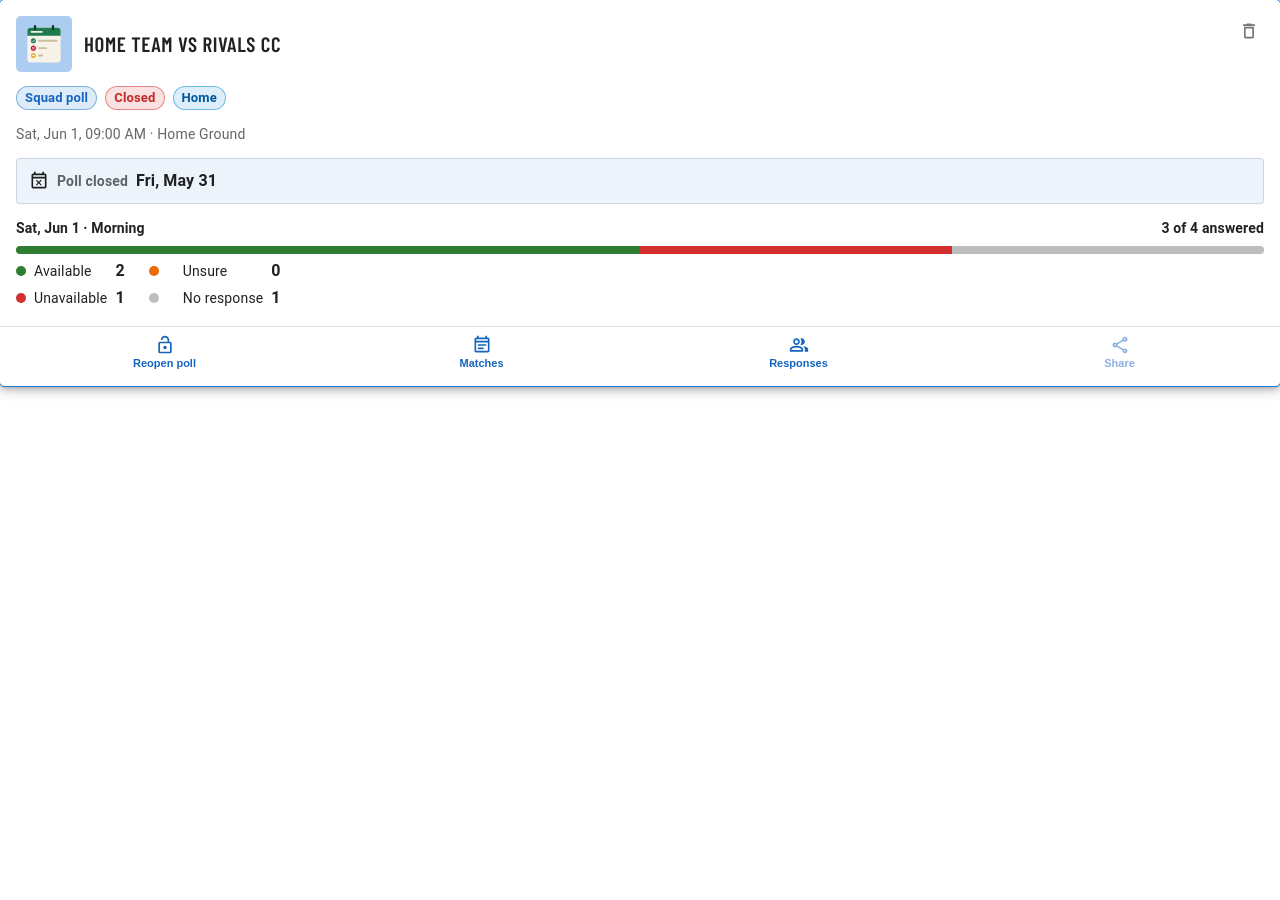
Test: PollCard - squad poll › a closed poll shows Closed, a Closed row and Reopen in the same footer slot, opening the Reopen dialog
The image size is (1280, 900).
Expected: the text "Closed" is shown, [114,90,156,105]
Expected: the text "Poll closed" is shown, [57,171,128,191]
Click the button "Reopen poll".
click(164, 352)  # box [8,327,321,378]
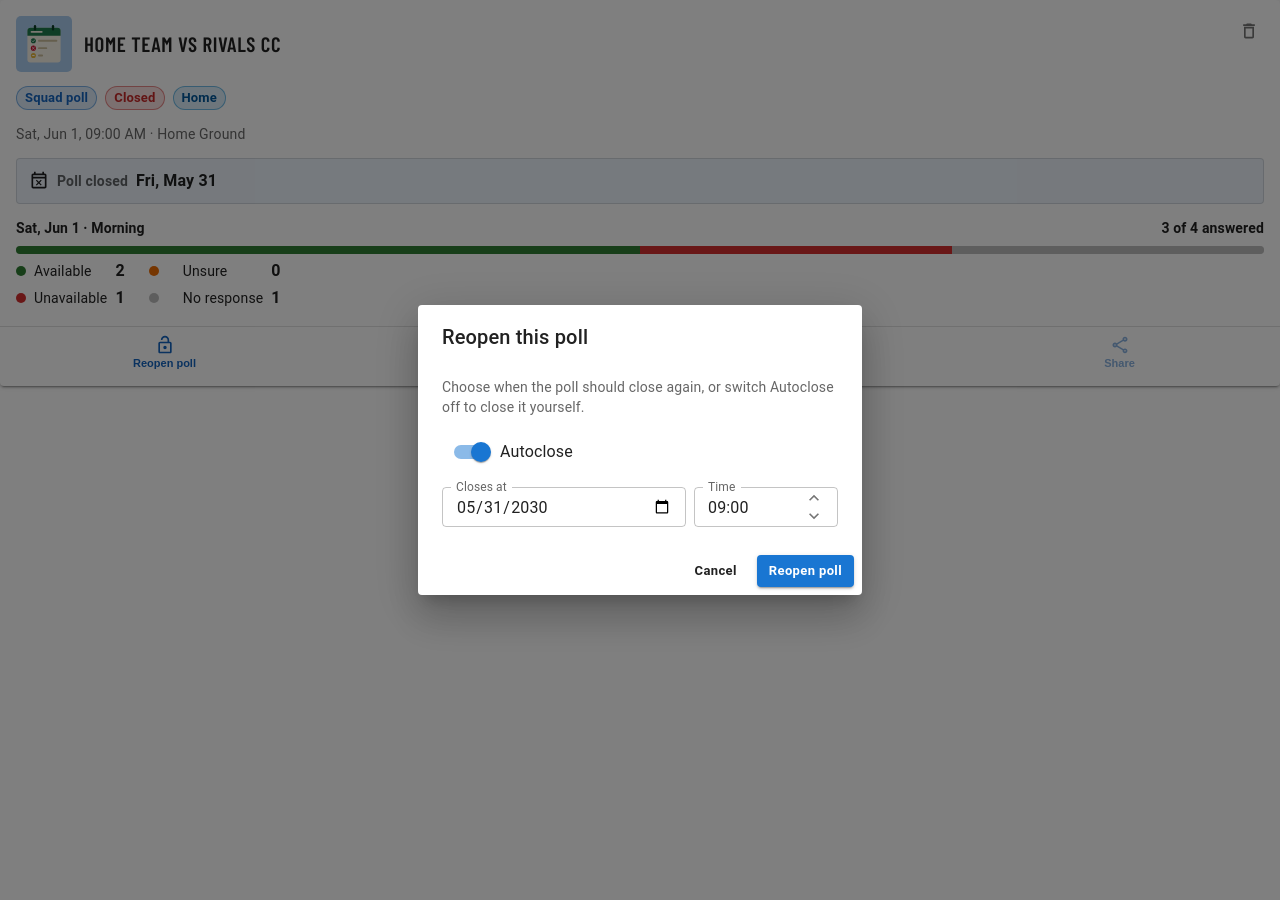
Result: the heading "Reopen this poll" is shown at [442,325,588,349]
